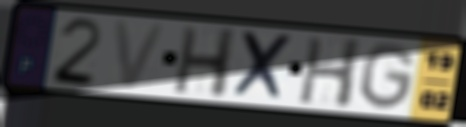2: (50, 16, 104, 88)
G: (358, 41, 418, 113)
H: (171, 25, 239, 101), (296, 36, 364, 111)
V: (111, 19, 170, 91)
X: (229, 29, 296, 104)
